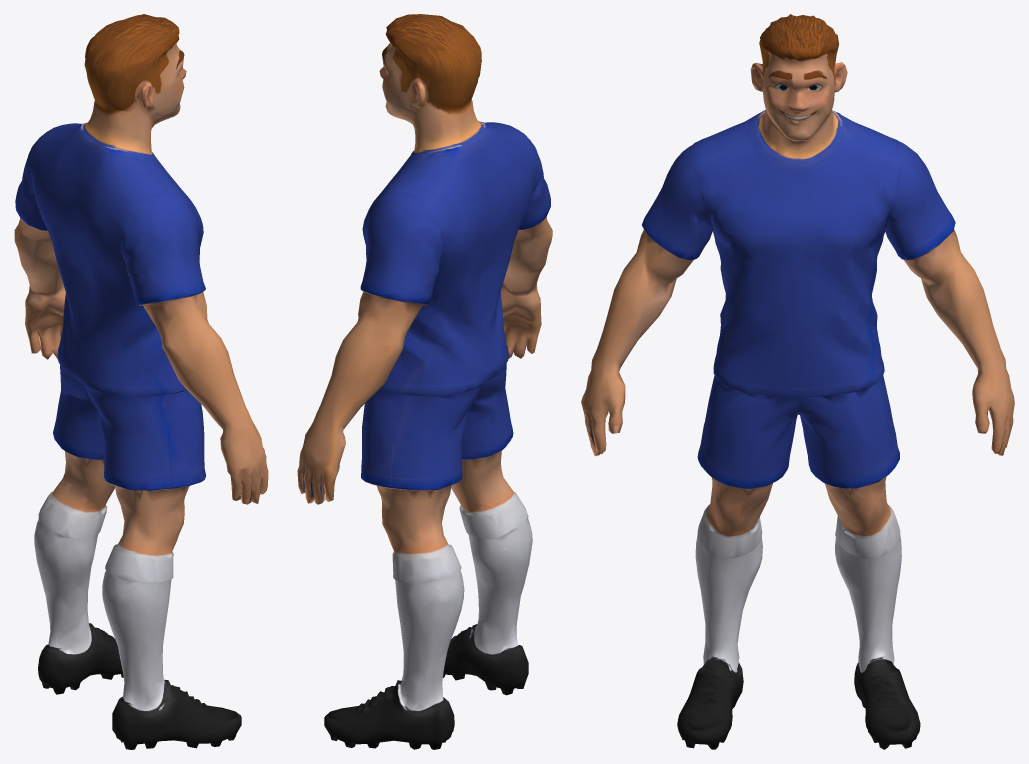
File: gen.glb
3 renders of one model, left to right at view 1: azimuth 30°, elevation 25°; view 2: azimuth 150°, elevation 25°; view 3: azimuth 270°, elevation 25°, orthographic. The views are drawn at different scales.
Visible parts, largest first — view 1: tripo_node_46a15a53-f861-43c8-ad8f-b6744a9d6c8d; view 2: tripo_node_46a15a53-f861-43c8-ad8f-b6744a9d6c8d; view 3: tripo_node_46a15a53-f861-43c8-ad8f-b6744a9d6c8d.
Part boxes in pixels (<box>): tripo_node_46a15a53-f861-43c8-ad8f-b6744a9d6c8d: <box>14,14,268,749</box>; tripo_node_46a15a53-f861-43c8-ad8f-b6744a9d6c8d: <box>297,14,552,749</box>; tripo_node_46a15a53-f861-43c8-ad8f-b6744a9d6c8d: <box>581,14,1014,749</box>.
Bounding box in the file's own units: 0.1892 × 1 × 0.556.
1 material, 1 textured.
